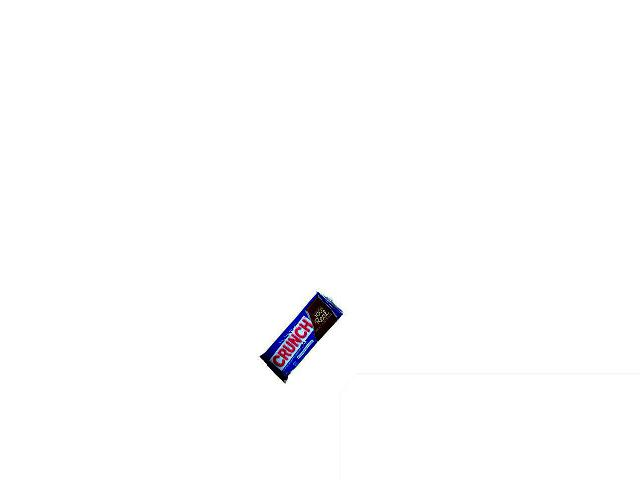chocolate: (259, 289, 344, 384)
